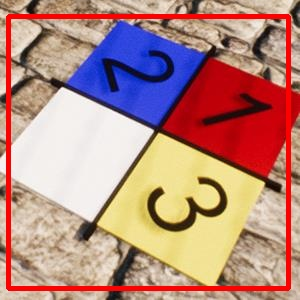nfpa: (8, 16, 288, 288)
